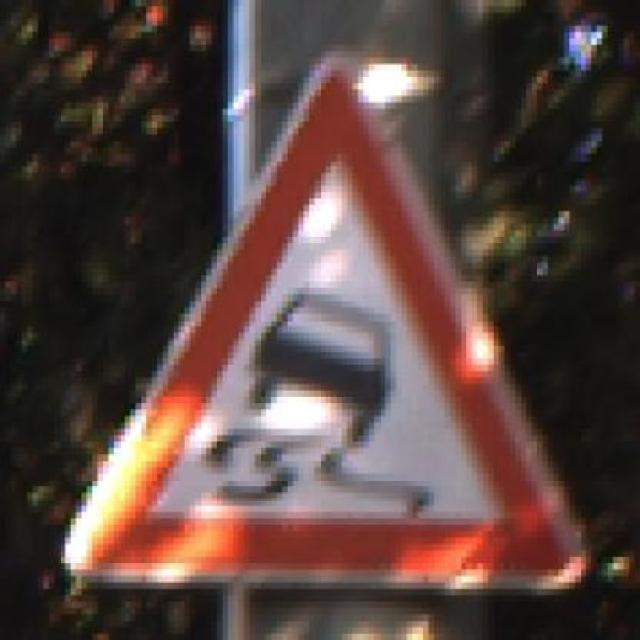Slippery Road Ahead: (43, 51, 597, 595)
